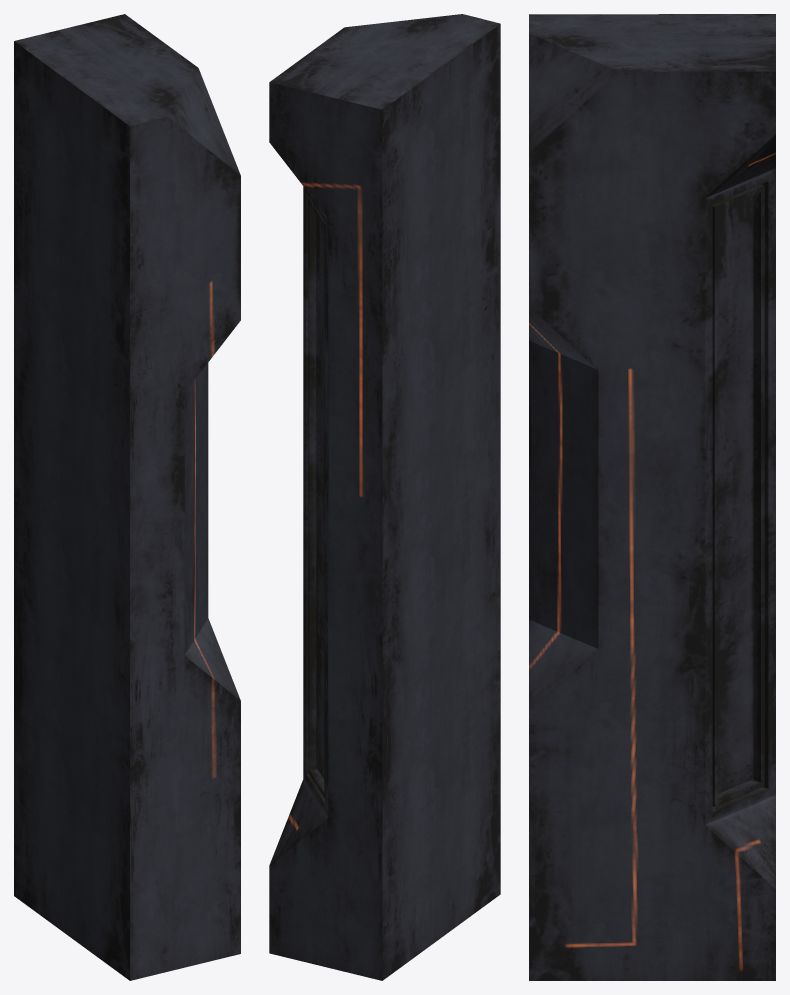
Rendered from Scifi-Building_04.glb.
3 renders of one model, left to right at view 1: azimuth 30°, elevation 25°; view 2: azimuth 150°, elevation 25°; view 3: azimuth 270°, elevation 25°, orthographic. The views are drawn at different scales.
Parts seen in each view (by area): view 1: SB_04; view 2: SB_04; view 3: SB_04.
Part boxes in pixels (x1,y1,x2,y2): SB_04: (14, 14, 240, 980); SB_04: (269, 14, 500, 980); SB_04: (529, 14, 775, 980).
Bounding box in the file's own units: 6.09 × 44.84 × 11.03.
1 material, 1 textured.
